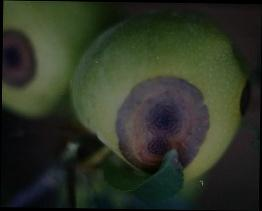rotten apple: (71, 10, 251, 192), (4, 1, 107, 123)
